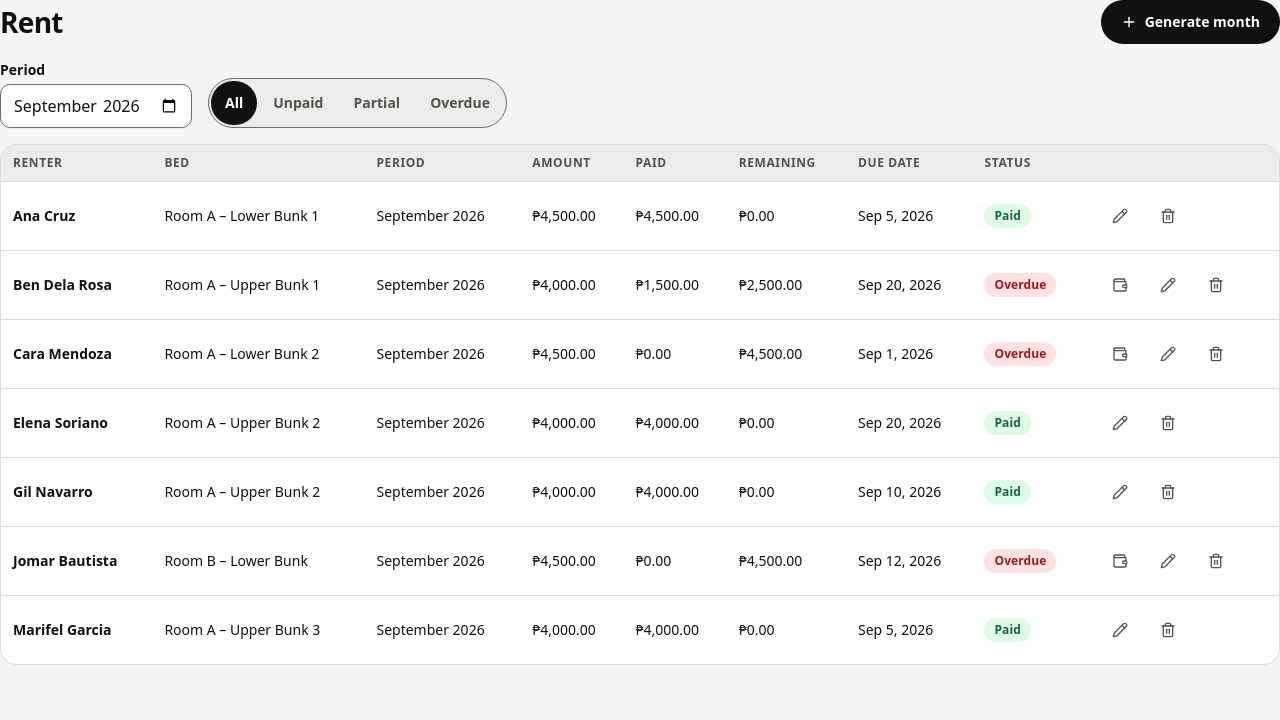
Test: AdminRentPage (F16, R35, R36, R55, SC-32, SC-33, SC-35, SC-56, SC-57) › saves an edit, disables Delete when payments exist, and deletes a charge without payments
This screenshot has width=1280, height=720.
Expected: the text "Ana Cruz" is shown, [1, 182, 152, 250]
Click the button named "Edit" in the row of "Ben Dela Rosa": (1168, 285) [1146, 263, 1190, 307]
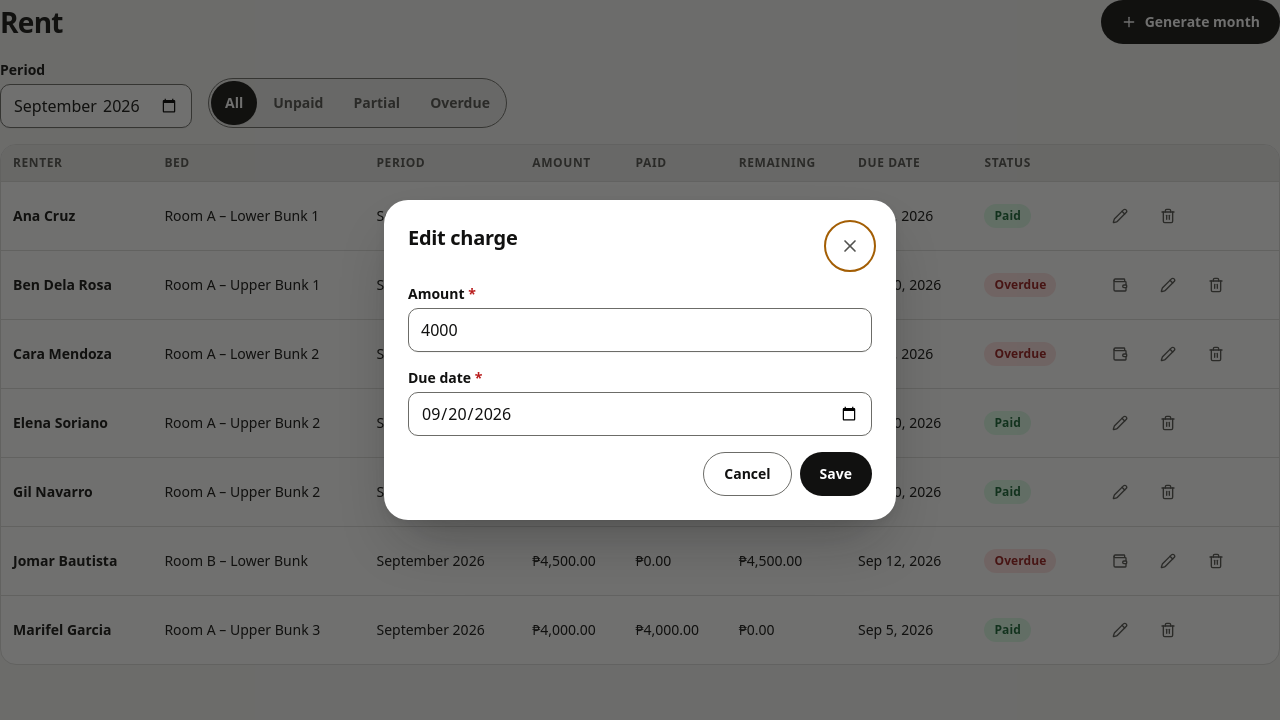
Replace the text in the field labelled "Amount *" with "4200": (640, 330) [408, 308, 872, 352]
Click the button "Save": (836, 474) [800, 452, 872, 496]
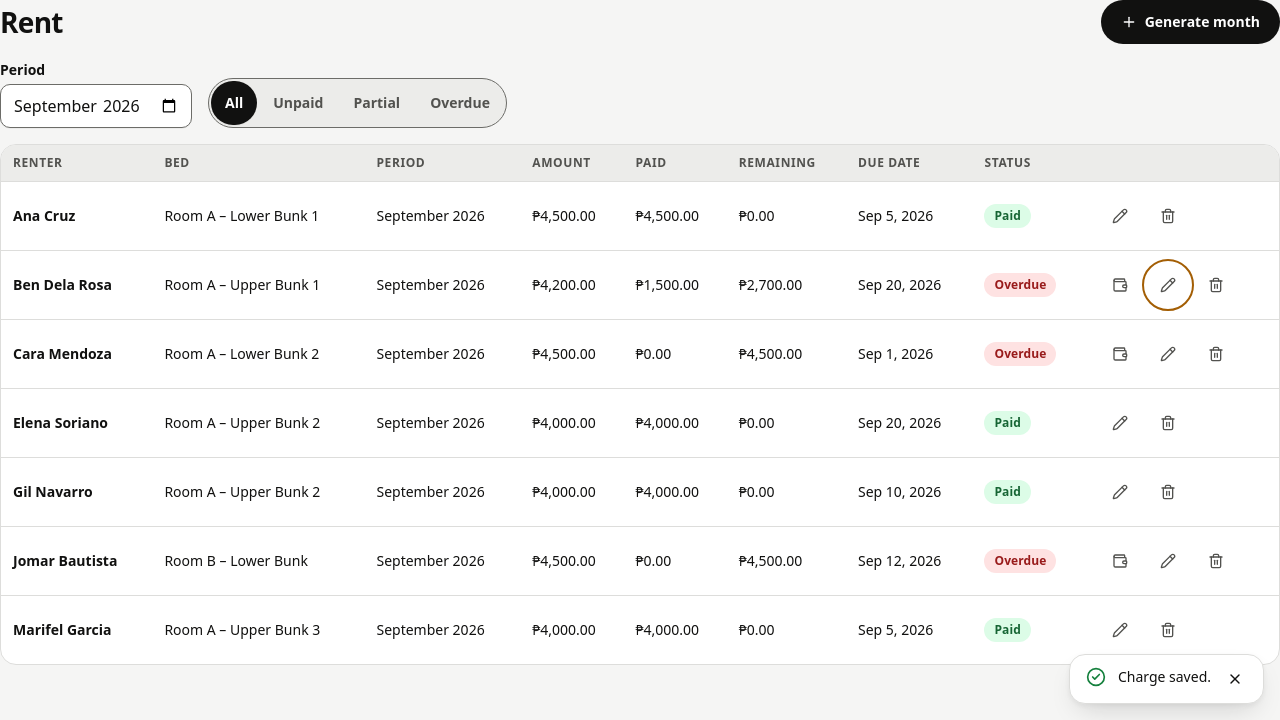
Now the text "Charge saved." is shown, box [1118, 667, 1211, 687]
Click the button named "Delete" in the row of "Cara Mendoza": (1216, 354) [1194, 332, 1238, 376]
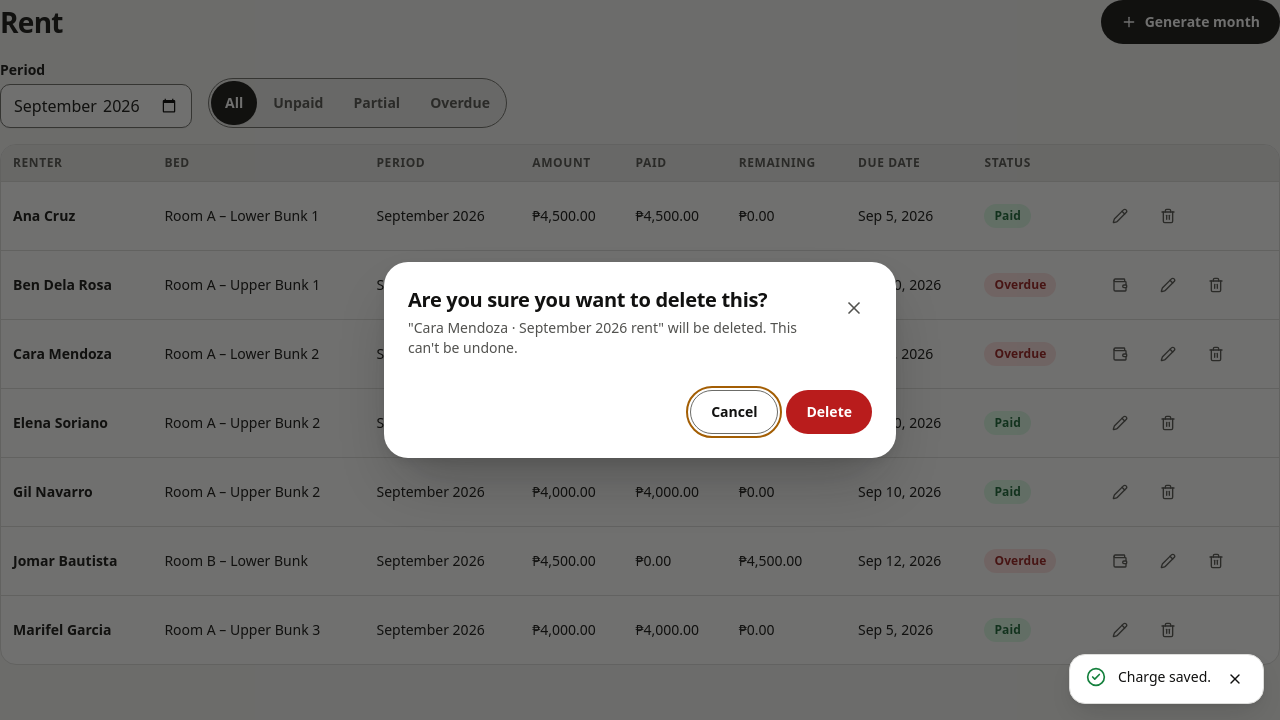
Now the dialog "Are you sure you want to delete this?" shows "\"Cara Mendoza · September 2026 rent\" will be deleted.", box [408, 318, 797, 357]
Click the button "Cancel": (734, 412) [690, 390, 778, 434]
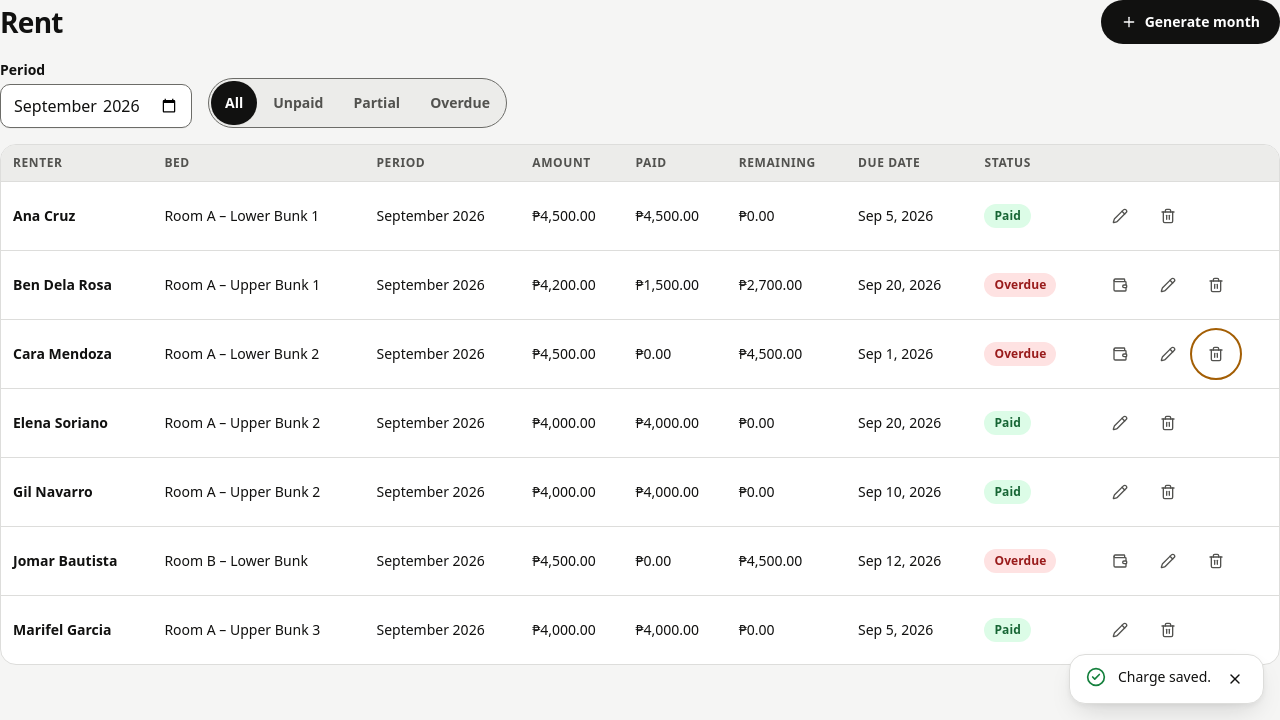
Expected: the row that starts with "Cara Mendoza" is shown, [1, 320, 1279, 388]
Click the button named "Delete" in the row of "Cara Mendoza": (1216, 354) [1194, 332, 1238, 376]
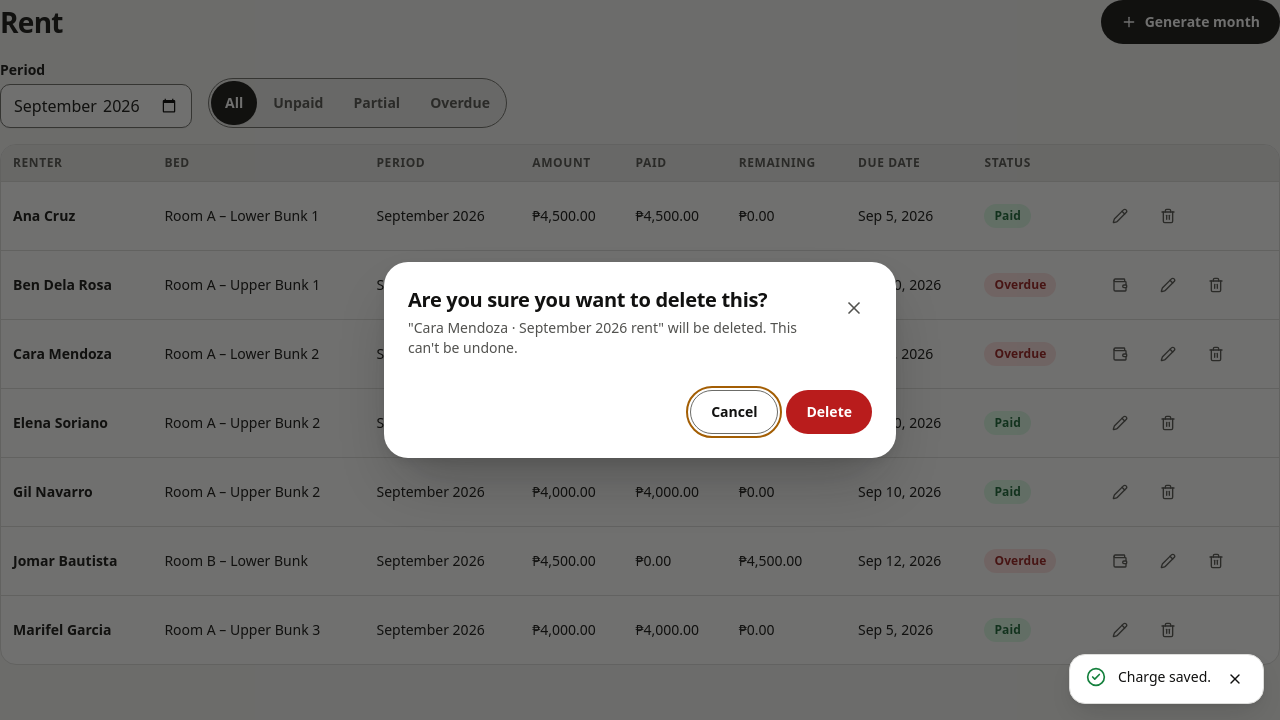
Click the button "Delete": (829, 412) [786, 390, 872, 434]
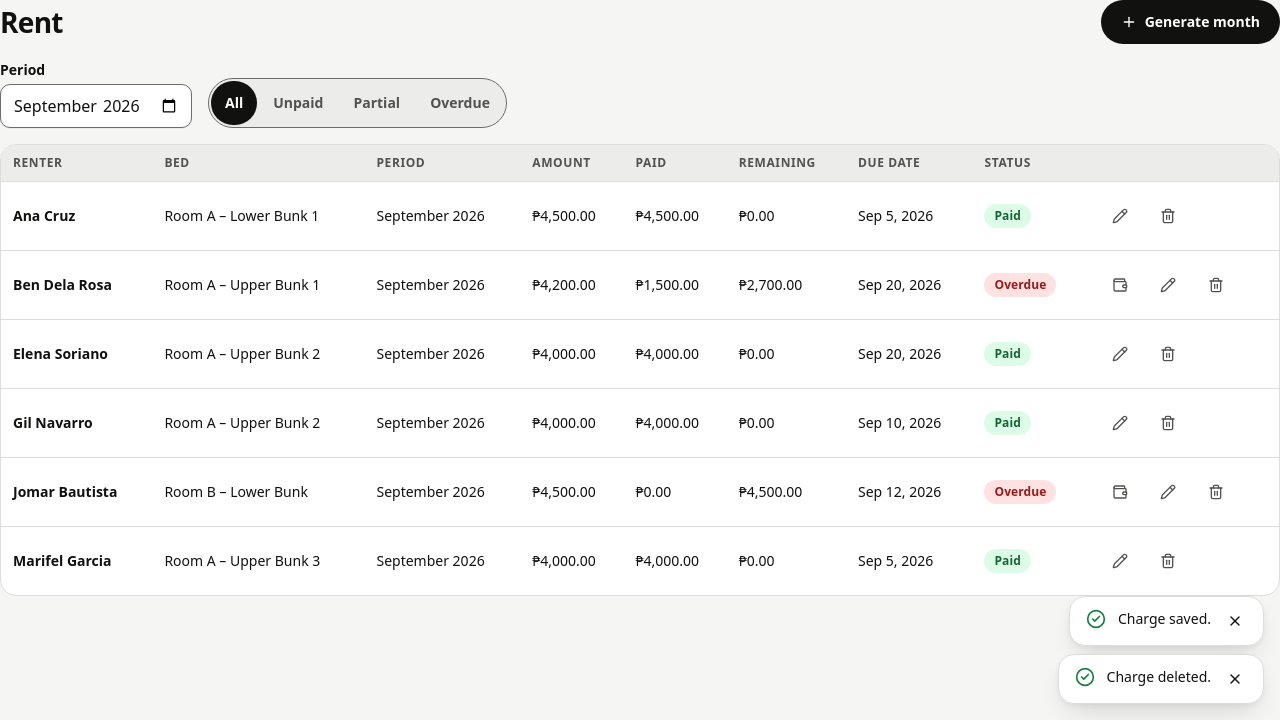
Now the text "Charge deleted." is shown, box [1106, 667, 1211, 687]
Now the text "Cara Mendoza" is gone
